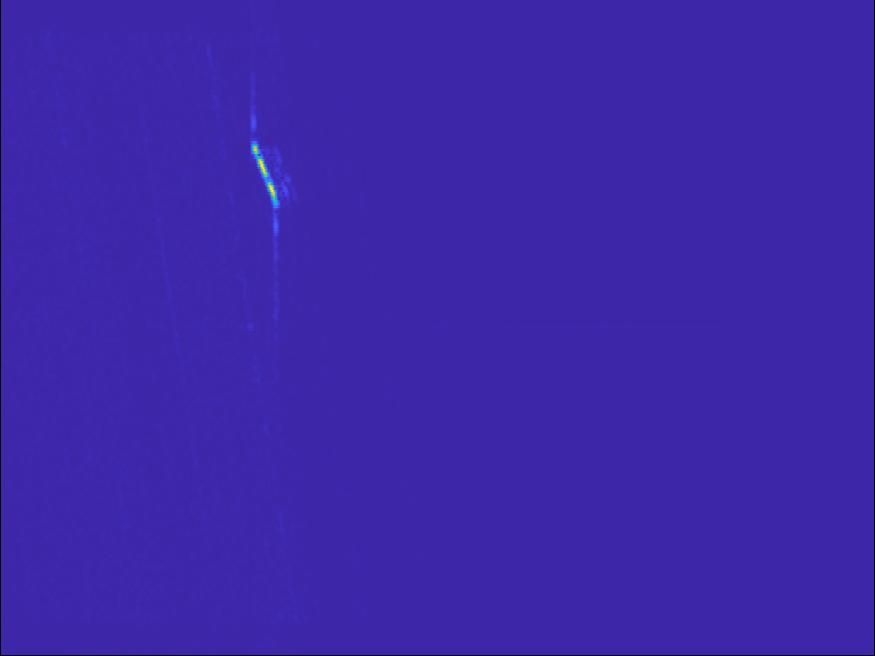Interference: (36, 77, 240, 238), (162, 292, 379, 376), (495, 467, 619, 517), (1, 305, 127, 354), (1, 569, 88, 608)
